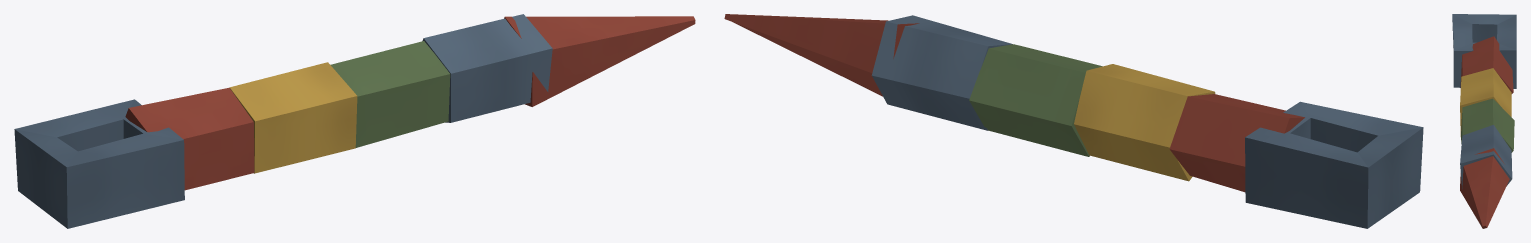
Rendered from needle_rainbow.glb.
3 renders of one model, left to right at view 1: azimuth 30°, elevation 25°; view 2: azimuth 150°, elevation 25°; view 3: azimuth 270°, elevation 25°, orthographic. The views are drawn at different scales.
Visible parts, largest first — view 1: NeedleRainbow; view 2: NeedleRainbow; view 3: NeedleRainbow.
Part boxes in pixels (box(x1,y1,x2,y2)): NeedleRainbow: box(14, 14, 695, 228); NeedleRainbow: box(724, 14, 1423, 228); NeedleRainbow: box(1452, 14, 1516, 228).
Size of the model in its own units: 0.3373 by 0.0423 by 0.0475.
Materials: 4 (4 with a texture image).
